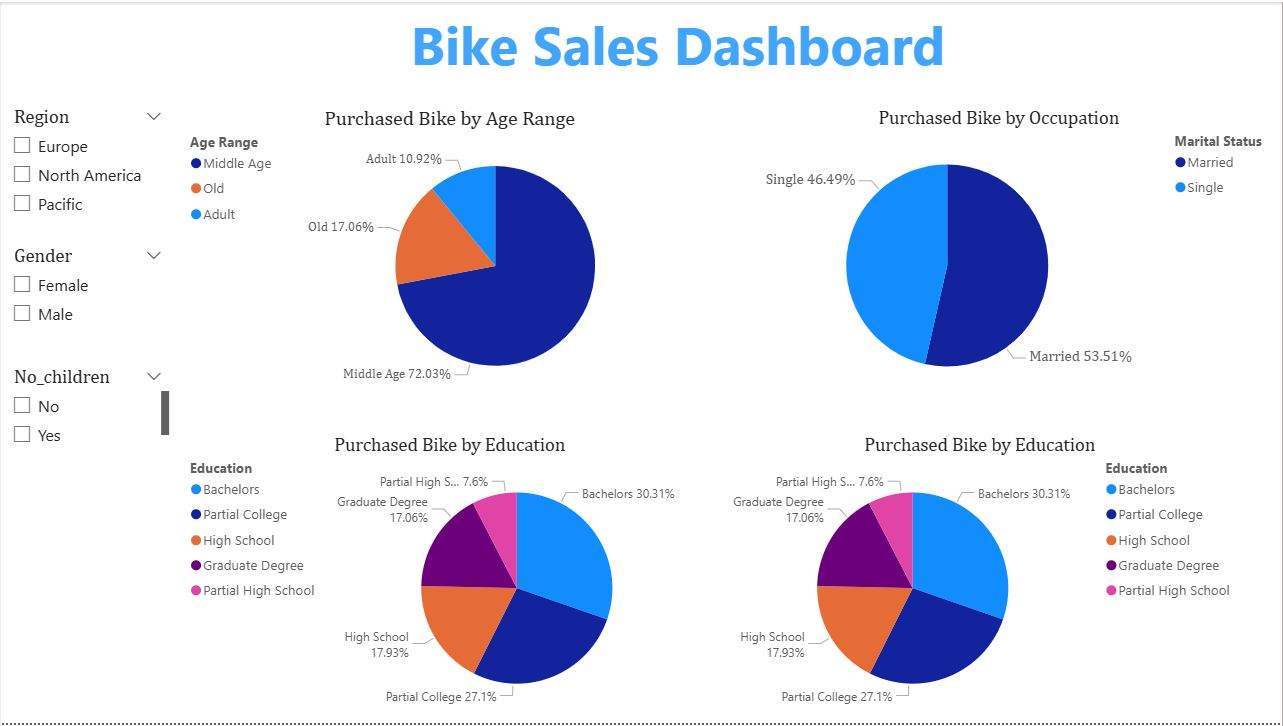

What the dashboard file says about the page in this screenshot:
{"tool":"powerbi","page":{"name":"Page 2","canvas":[1280,720],"ordinal":1},"visuals":[{"type":"pieChart","title":"Purchased Bike by Age Range ","fields":{"Category":["bike_buyers.Age Range"],"Y":["CountNonNull(bike_buyers.Purchased Bike)"]},"box":[183.8,106,529.1,295.7],"z":0},{"type":"textbox","box":[0,0,1280,81.7],"z":2},{"type":"pieChart","title":"Purchased Bike by Occupation","fields":{"Y":["CountNonNull(bike_buyers.Purchased Bike)"],"Category":["bike_buyers.Marital Status"]},"box":[712.9,106,567.1,295.7],"z":3},{"type":"pieChart","title":"Purchased Bike by Education","fields":{"Y":["CountNonNull(bike_buyers.Purchased Bike)"],"Category":["bike_buyers.Education"]},"box":[183.8,432.8,529.1,286.9],"z":4},{"type":"pieChart","title":"Purchased Bike by Education","fields":{"Y":["CountNonNull(bike_buyers.Purchased Bike)"],"Category":["bike_buyers.Education"]},"box":[712.9,432.8,529.1,286.9],"z":5},{"type":"slicer","fields":{"Values":["bike_buyers.Region"]},"box":[0,100.4,172.5,127.4],"z":6},{"type":"slicer","fields":{"Values":["bike_buyers.Gender"]},"box":[0,239.1,172.5,103.8],"z":7},{"type":"slicer","fields":{"Values":["bike_buyers.No_children"]},"box":[0,359.7,172.9,89.9],"z":8}]}

Visuals, with their boxes in screenshot pixels (x1, y1, x2, y2), scaled from the page's 1280x720 canvas onto the 1283x726 screenshot:
"Purchased Bike by Age Range " pieChart: (left=184, top=107, right=715, bottom=405)
textbox: (left=0, top=0, right=1282, bottom=82)
"Purchased Bike by Occupation" pieChart: (left=715, top=107, right=1282, bottom=405)
"Purchased Bike by Education" pieChart: (left=184, top=436, right=715, bottom=725)
"Purchased Bike by Education" pieChart: (left=715, top=436, right=1245, bottom=725)
slicer - bike_buyers.Region: (left=0, top=101, right=173, bottom=230)
slicer - bike_buyers.Gender: (left=0, top=241, right=173, bottom=346)
slicer - bike_buyers.No_children: (left=0, top=363, right=173, bottom=453)
